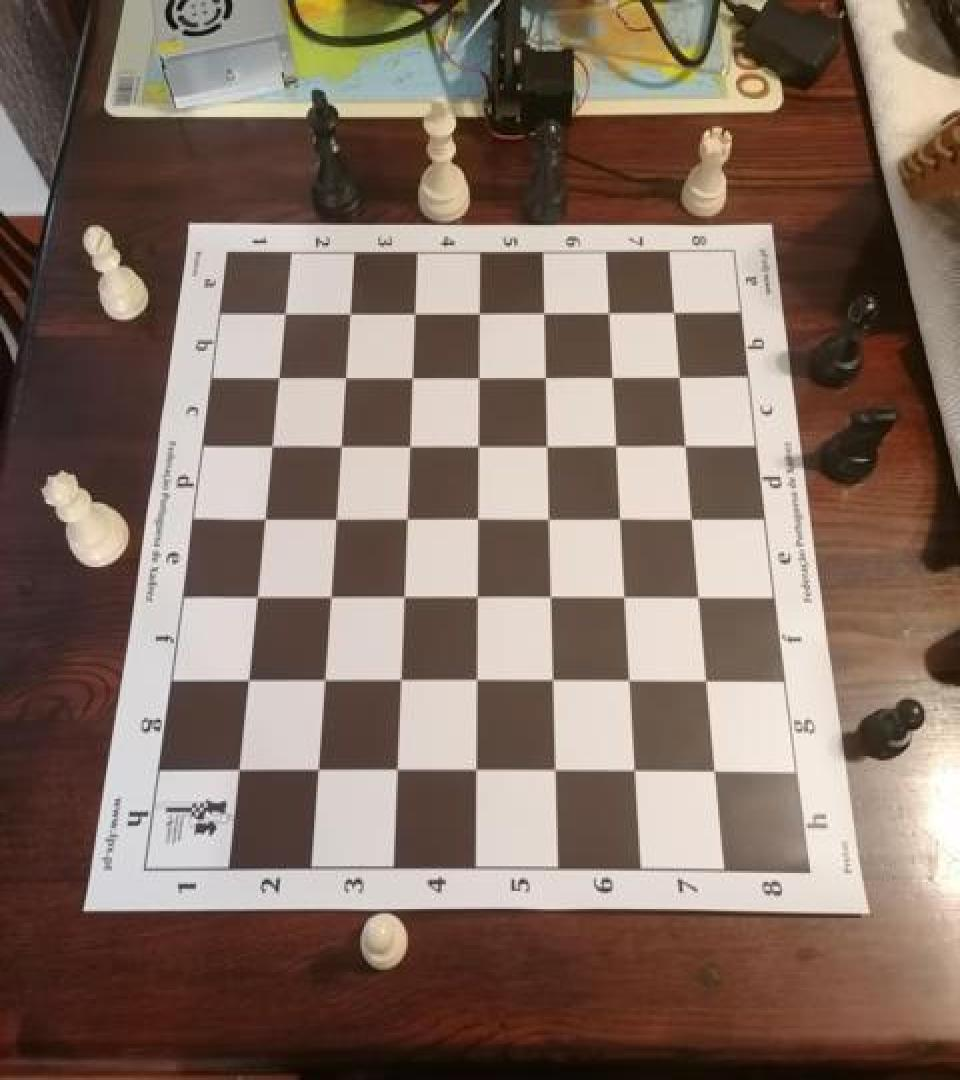xcorner: (673, 427, 701, 459), (604, 427, 632, 459), (534, 427, 562, 459), (465, 427, 493, 459), (396, 427, 424, 459), (327, 427, 355, 459), (258, 427, 286, 459), (687, 580, 715, 612), (612, 579, 640, 611), (538, 579, 566, 611), (464, 579, 492, 611), (390, 579, 418, 611), (316, 579, 344, 611), (242, 579, 270, 611), (702, 756, 730, 788), (622, 756, 650, 788), (662, 294, 690, 325), (596, 294, 624, 325), (531, 294, 559, 325), (466, 294, 494, 325), (401, 294, 429, 325), (337, 295, 365, 326), (272, 295, 300, 326), (667, 358, 695, 389), (600, 358, 628, 389), (533, 359, 561, 390), (466, 359, 494, 390), (399, 359, 427, 390), (332, 359, 360, 390), (265, 359, 293, 390), (680, 501, 708, 532), (608, 501, 636, 532), (536, 501, 564, 532), (464, 501, 492, 532), (393, 501, 421, 532), (322, 501, 350, 532), (250, 501, 278, 532), (694, 665, 722, 696), (617, 665, 645, 696), (540, 664, 568, 695), (463, 664, 491, 695), (386, 664, 414, 695), (310, 664, 338, 695), (233, 664, 261, 695), (542, 755, 570, 786), (462, 755, 490, 786), (382, 755, 410, 786), (303, 754, 331, 785), (224, 754, 252, 785)
